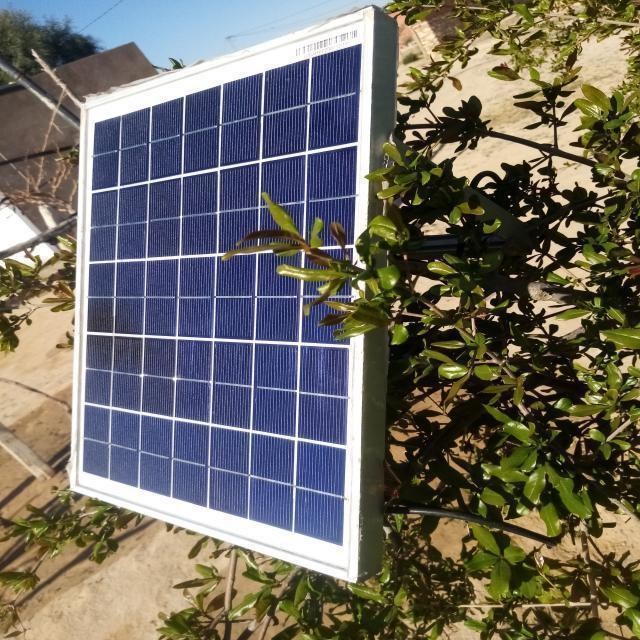Normal Solar Panel: (68, 12, 371, 582)
